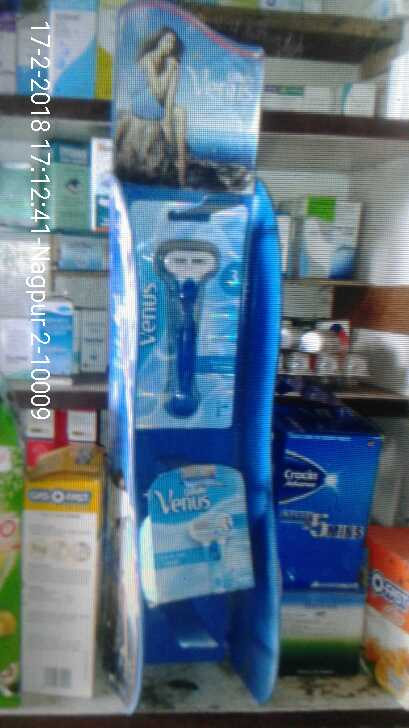venus: (131, 201, 245, 430), (139, 464, 257, 595)
